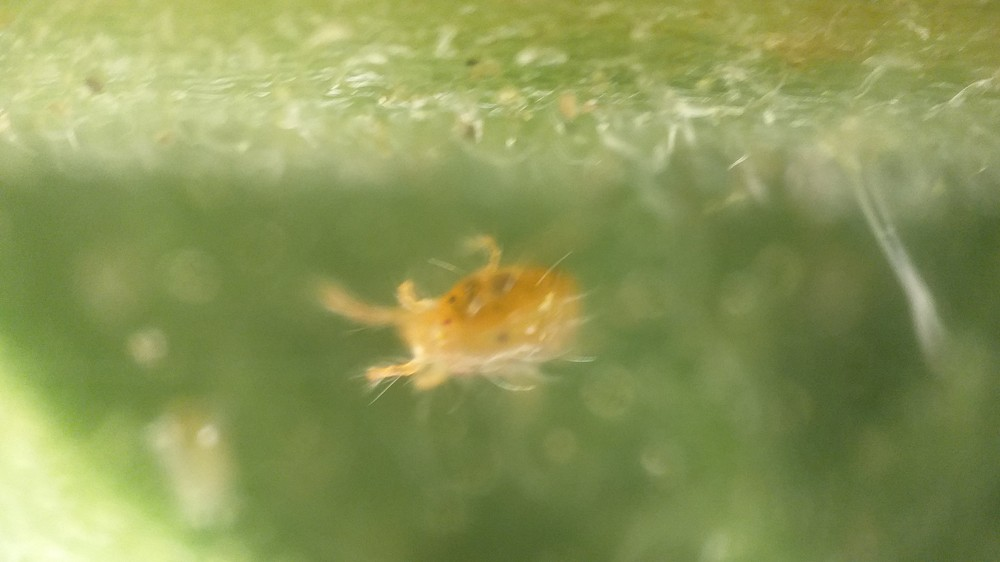Aracnido Rojo: (317, 237, 644, 405)
